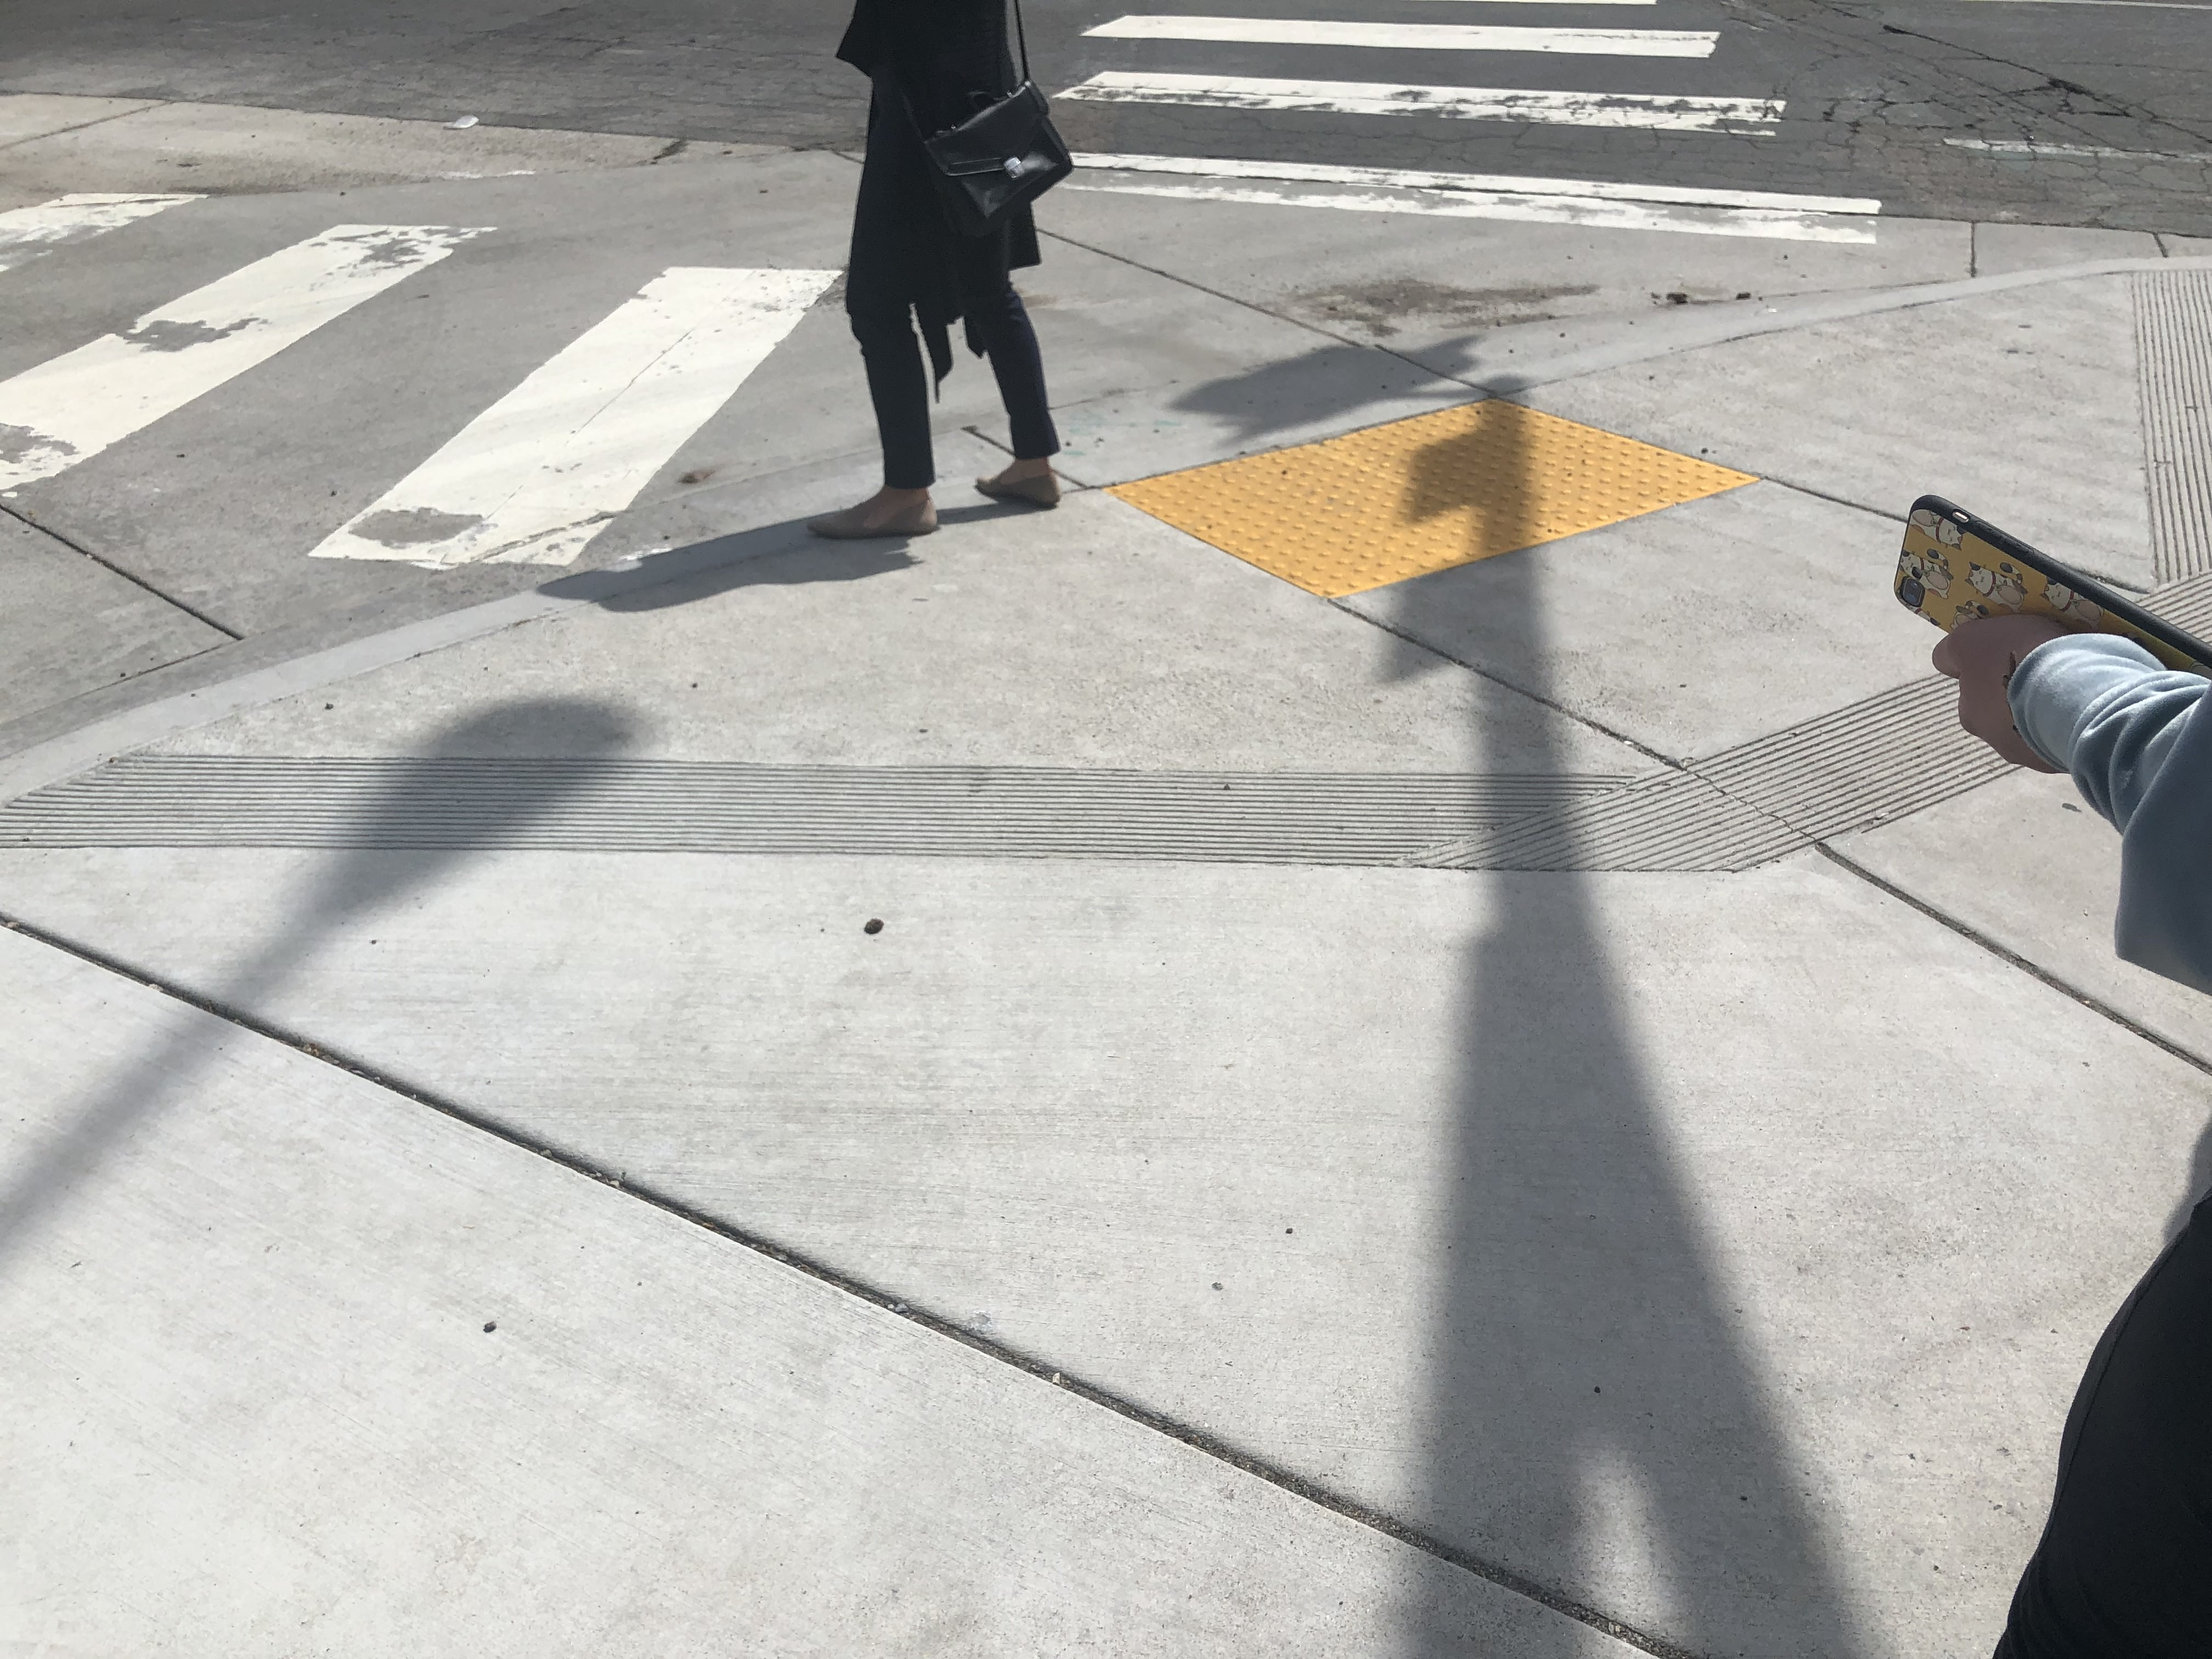Edge: (2, 507, 836, 789), (1487, 254, 2207, 376)
Obstacle: (1871, 465, 2209, 995), (824, 12, 1071, 561)
